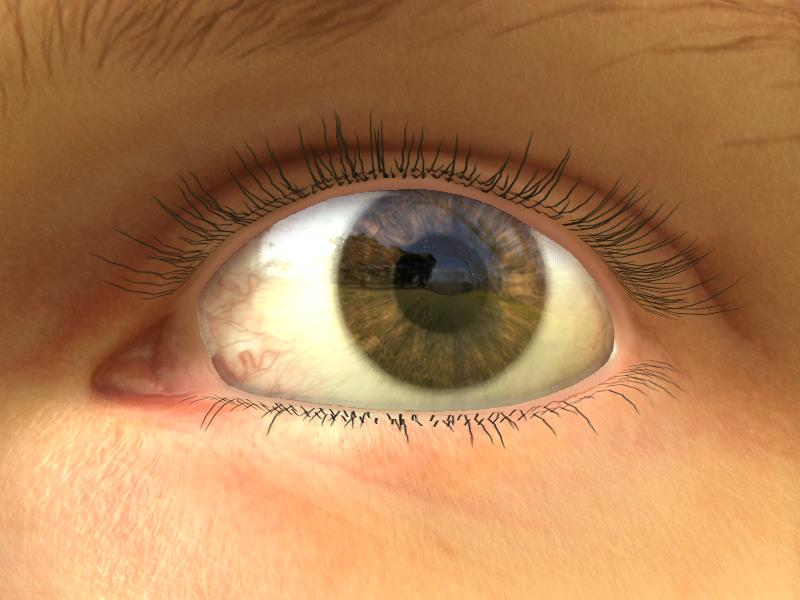eye: (331, 192, 549, 397)
